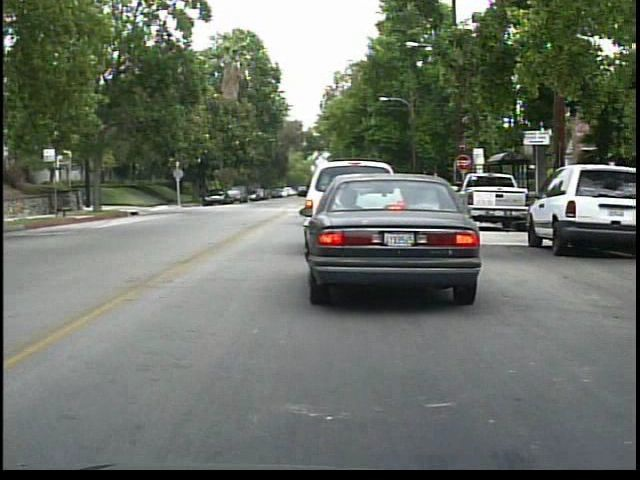person: (197, 180, 212, 206)
